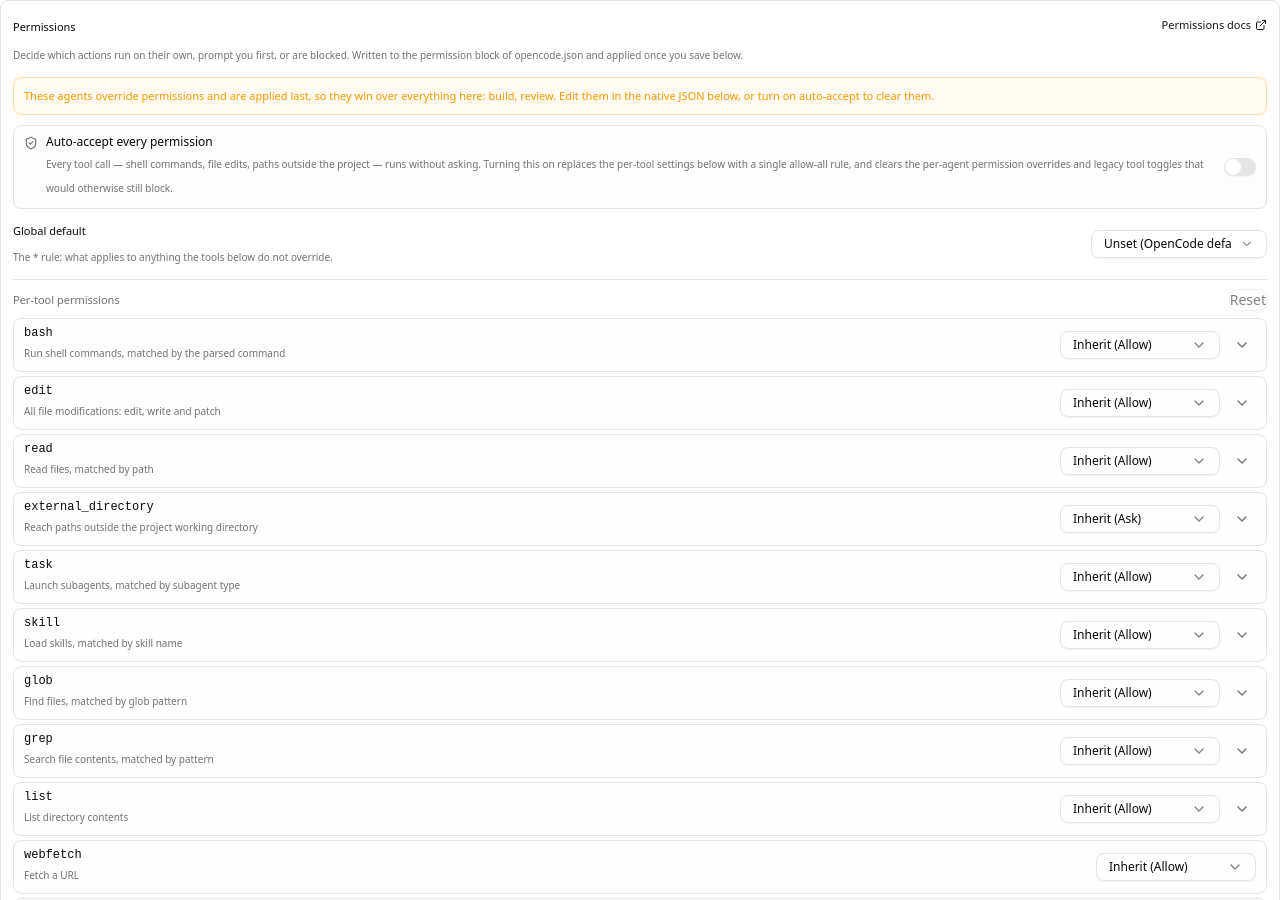
Scenario: OpenCodePermissionsSection › auto-accept clears agent overrides so the switch tells the truth
Click the switch named "Auto-accept every permission".
click(1240, 167)  # box [1224,158,1256,176]
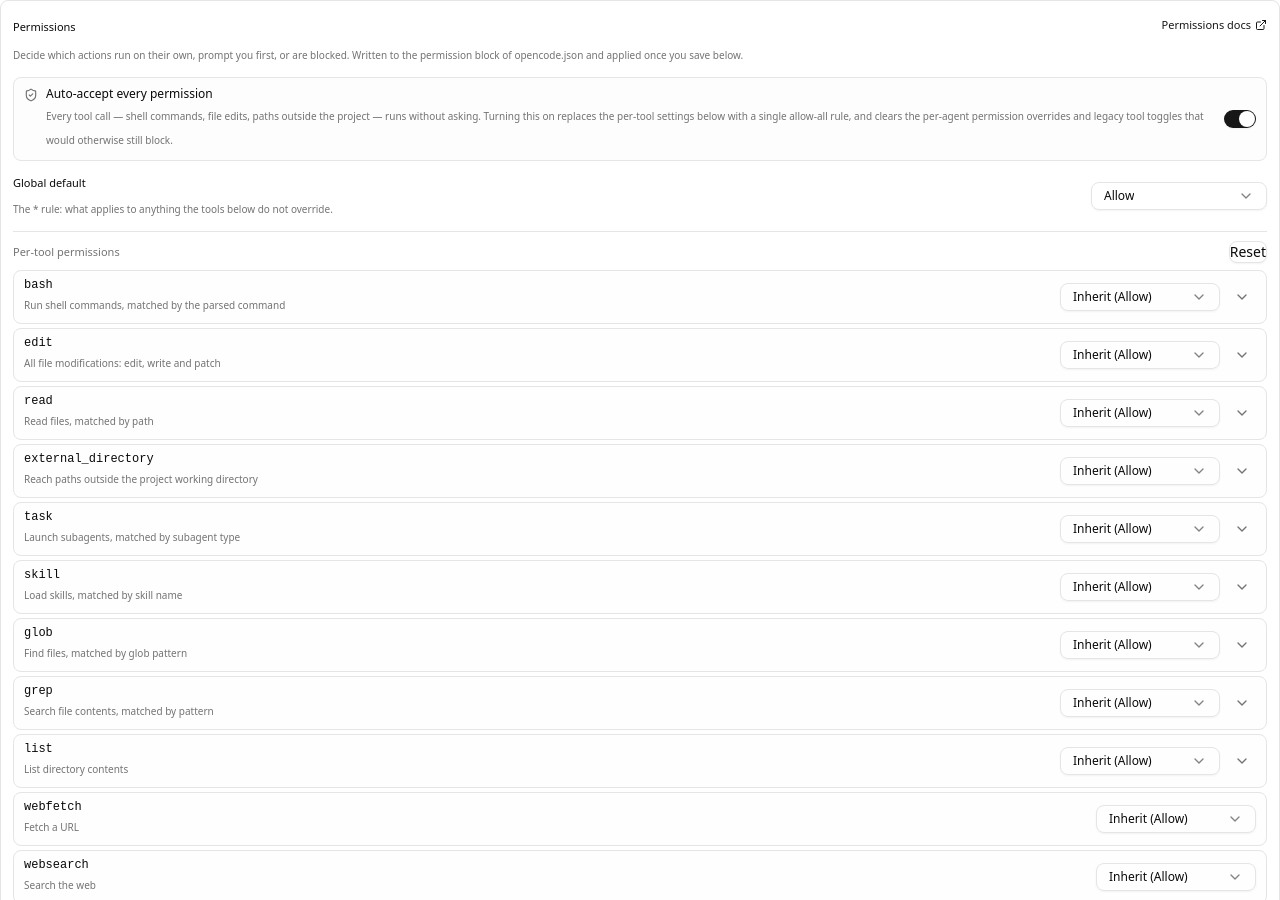
Now the text "These agents override permissions" is gone
